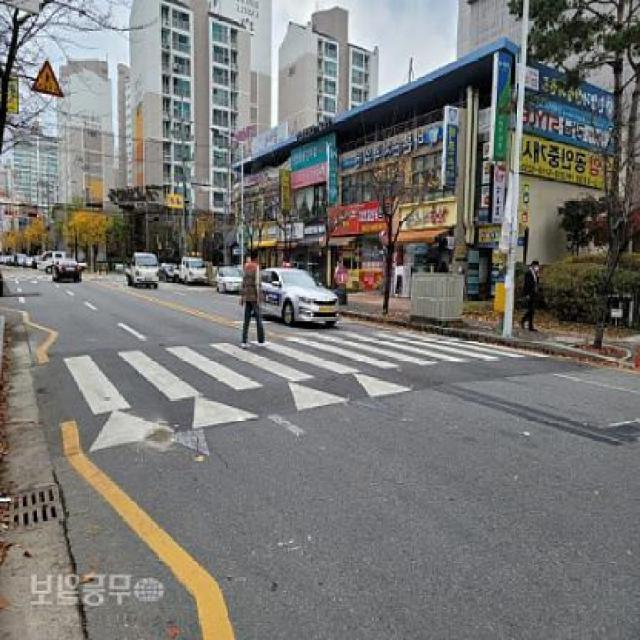Pedestrian crosswalk: (31, 326, 540, 460)
